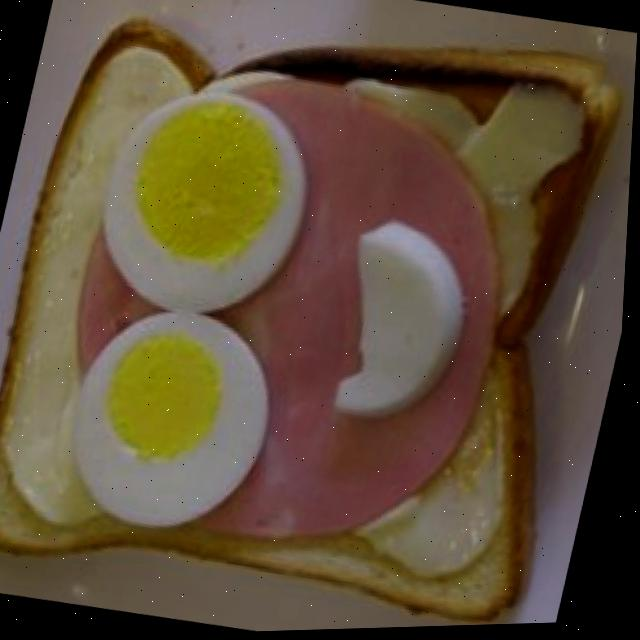面包点心: (0, 0, 620, 635)
